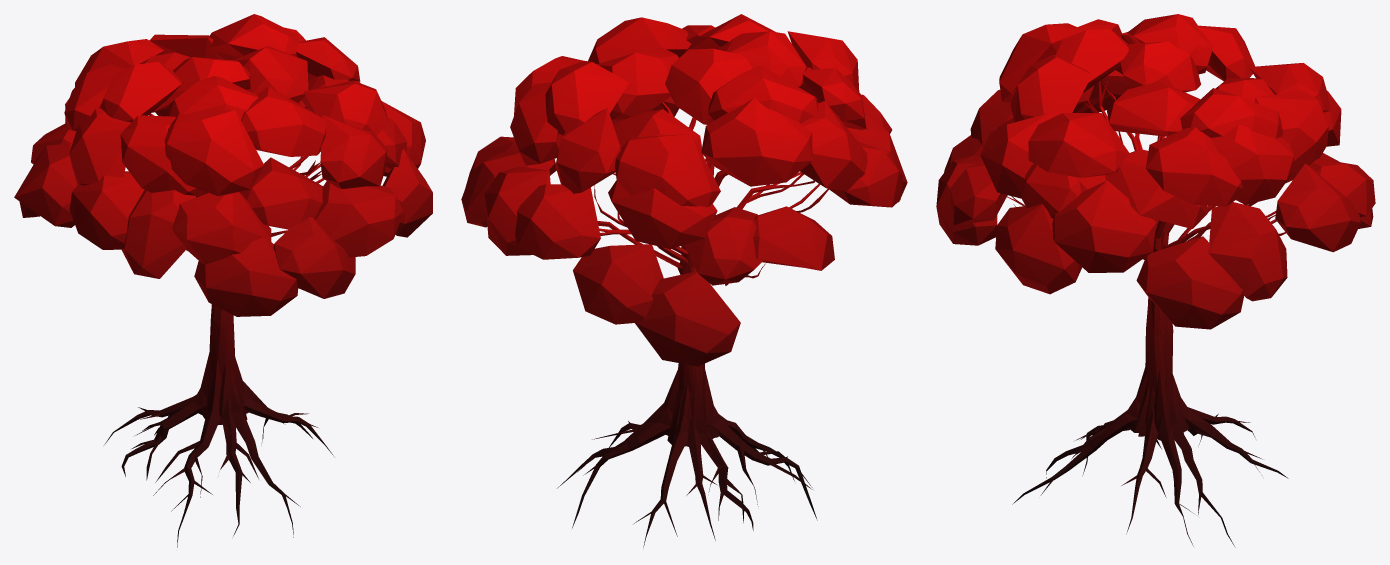
File: TreeMahogany04.fbx
3 views of the same model, side by side, from view 1: azimuth 30°, elevation 25°; view 2: azimuth 150°, elevation 25°; view 3: azimuth 270°, elevation 25° (orthographic). The views are drawn at different scales.
Parts seen in each view (by area): view 1: TreeMahogany04_LOD0; view 2: TreeMahogany04_LOD0; view 3: TreeMahogany04_LOD0.
Part boxes in pixels (x1,y1,x2,y2): TreeMahogany04_LOD0: (14, 14, 432, 547); TreeMahogany04_LOD0: (461, 14, 907, 547); TreeMahogany04_LOD0: (936, 14, 1375, 547).
Size of what is drawn, in the model's own units: 1402 by 1691 by 1435.
